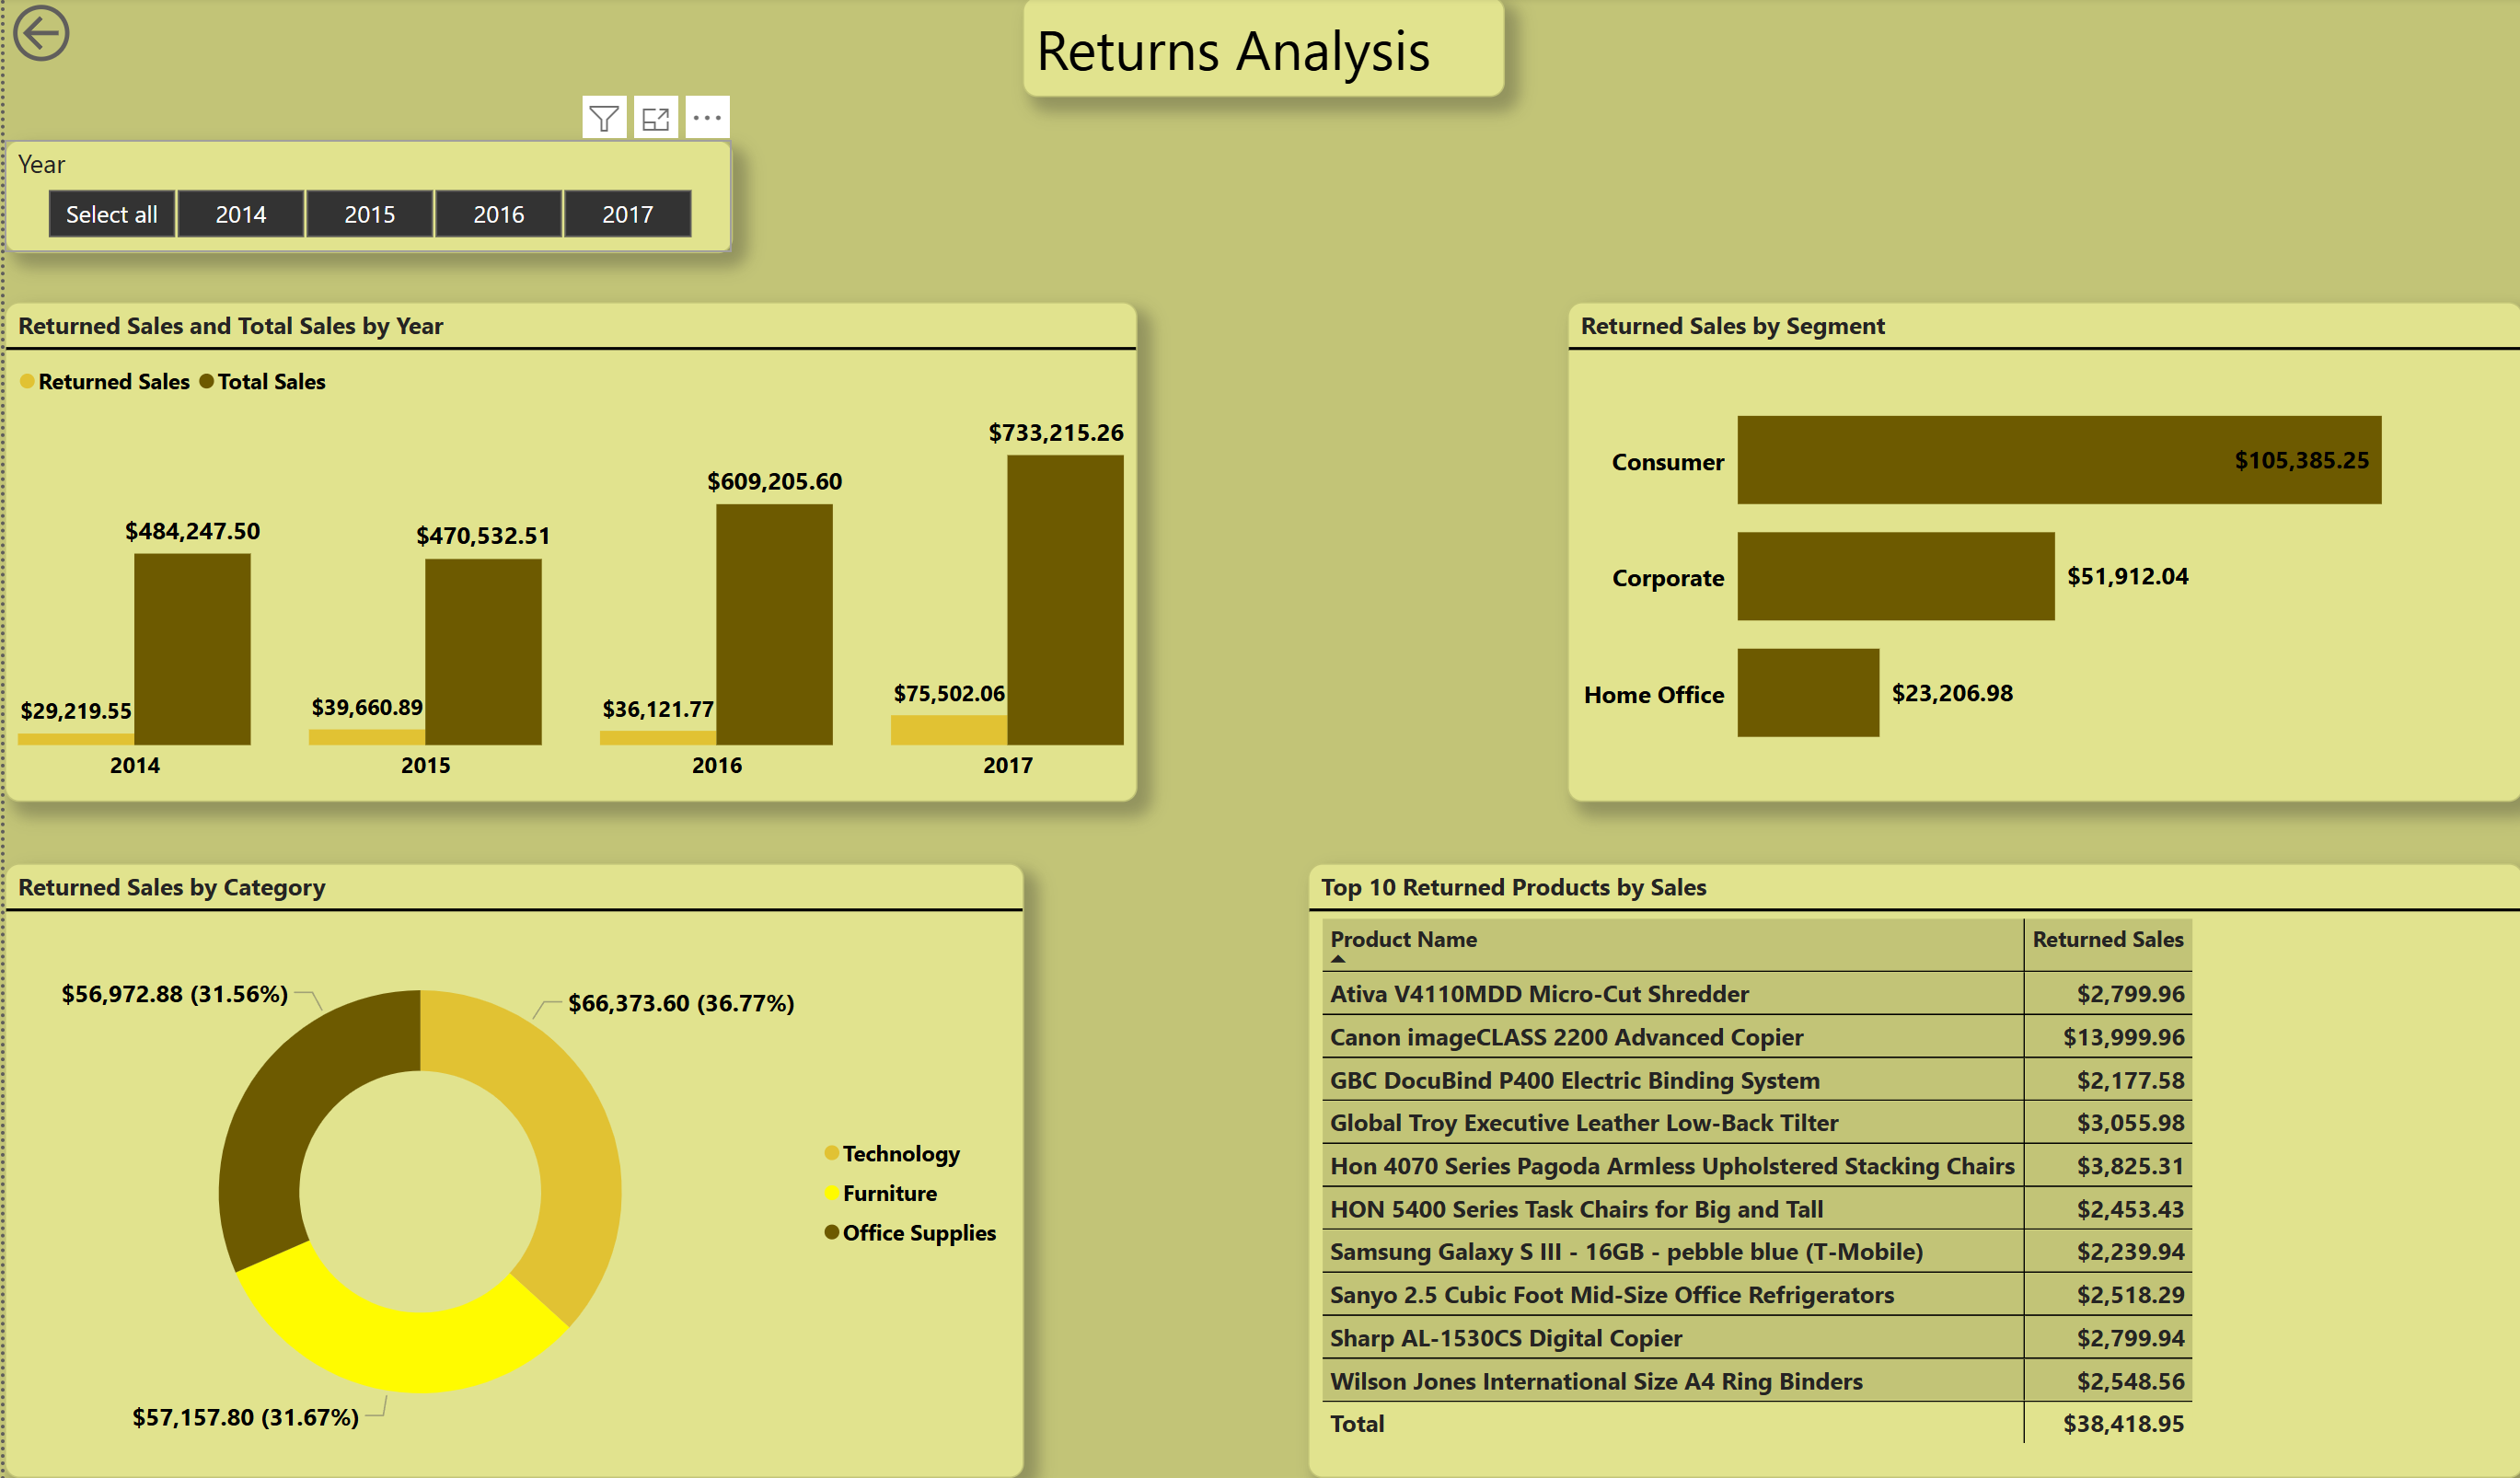

This screenshot's page, from the dashboard's own definition file:
{"tool":"powerbi","page":{"name":"Returns analysis","canvas":[1700,1000],"ordinal":3},"visuals":[{"type":"tableEx","title":"Top 10 Returned Products by Sales","fields":{"Values":["DimProduct.Product Name","MeasuresTable.Returned Sales"]},"box":[879.4,585,820.6,415],"z":0},{"type":"textbox","box":[687.2,0,325.6,68.1],"z":1000},{"type":"donutChart","fields":{"Category":["DimProduct.Category"],"Y":["MeasuresTable.Returned Sales"]},"box":[0,585,688,415],"z":2000},{"type":"barChart","fields":{"Y":["MeasuresTable.Returned Sales"],"Category":["DimCustomer.Segment"]},"box":[1054.8,206.1,645.2,337.3],"z":3000},{"type":"clusteredColumnChart","fields":{"Y":["MeasuresTable.Returned Sales","MeasuresTable.Sales"],"Category":["Calendar.Year Hierarchy.Year"]},"box":[0,206.1,764.3,337.3],"z":4000},{"type":"actionButton","box":[0,0,116.5,49.5],"z":5000},{"type":"slicer","title":"Year","fields":{"Values":["Calendar.Year Hierarchy.Year"]},"box":[0,96.4,491.3,76.3],"z":5001}]}

Visuals, with their boxes in screenshot pixels (x1, y1, x2, y2), scaled from the page's 1700x1000 canvas onto the 2520x1478 screenshot:
"Top 10 Returned Products by Sales" tableEx: 1303:865:2519:1477
textbox: 1019:0:1501:100
donutChart - DimProduct.Category x MeasuresTable.Returned Sales: 0:865:1020:1477
barChart - MeasuresTable.Returned Sales x DimCustomer.Segment: 1564:305:2519:803
clusteredColumnChart - MeasuresTable.Returned Sales x MeasuresTable.Sales: 0:305:1133:803
actionButton: 0:0:173:73
"Year" slicer: 0:143:728:255
